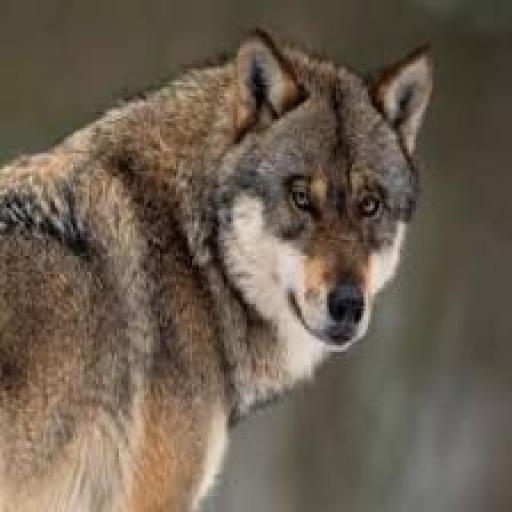wolf: (5, 25, 441, 512)
